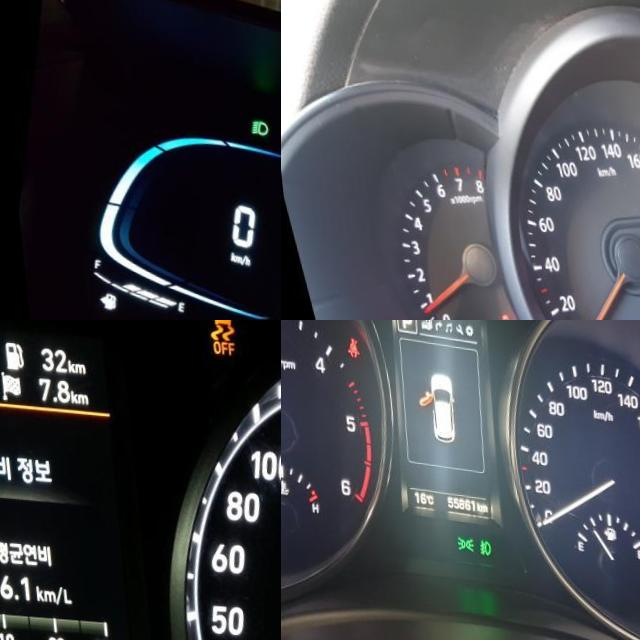Doors: (488, 309, 502, 320)
FrontFogLight: (469, 530, 483, 551)
Low beam: (245, 112, 265, 133)
SideLamp: (447, 528, 466, 547)
